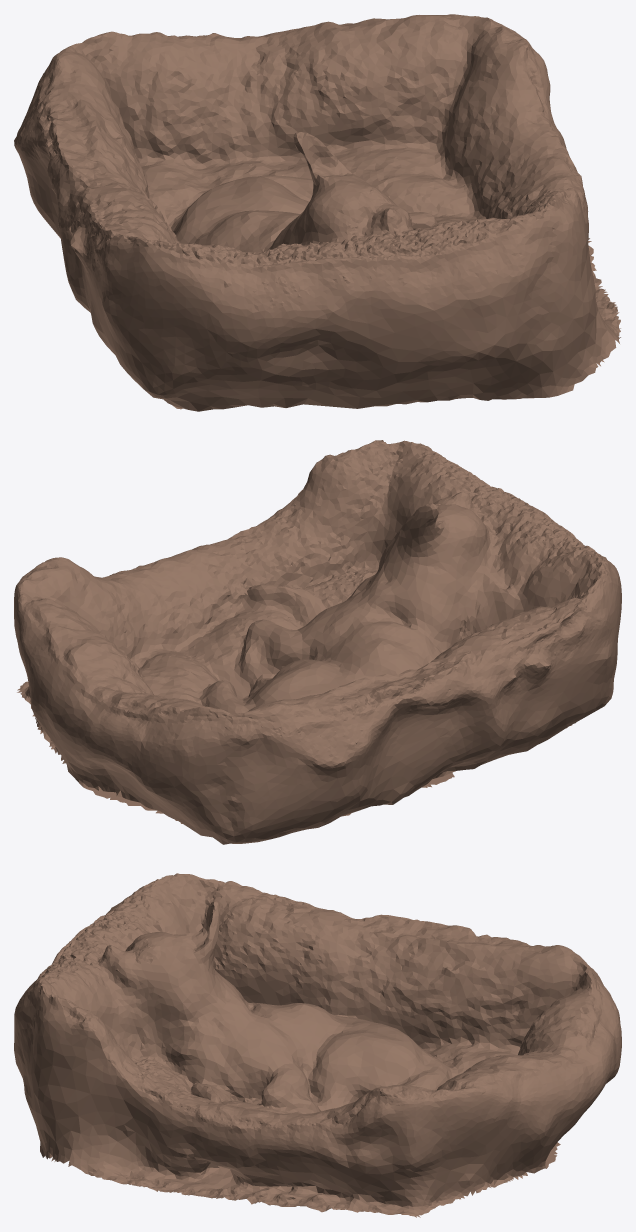
File: CHIEN.fbx
The picture shows the model from 3 angles, top to bottom: view 1: azimuth 30°, elevation 25°; view 2: azimuth 150°, elevation 25°; view 3: azimuth 270°, elevation 25°; orthographic projection. The views are drawn at different scales.
Visible parts, largest first — view 1: CHIEN; view 2: CHIEN; view 3: CHIEN.
Part boxes in pixels (x1,y1,x2,y2): CHIEN: (14, 14, 620, 411); CHIEN: (14, 440, 621, 844); CHIEN: (14, 873, 621, 1217).
Size of the model in its own units: 116 by 45.37 by 134.
